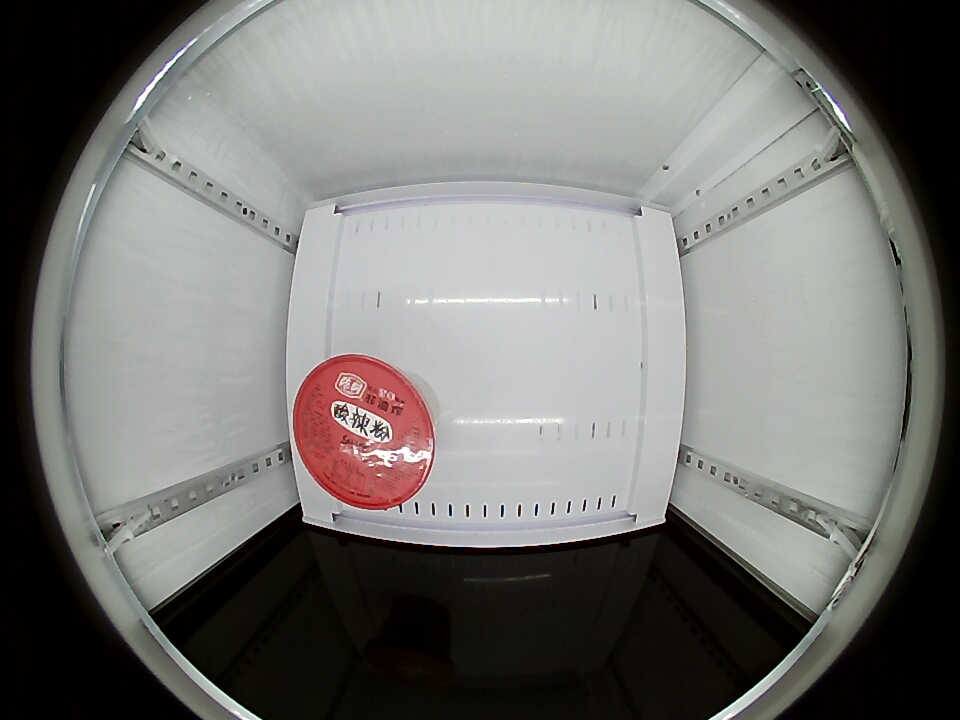suanlafen: (293, 355, 438, 509)
